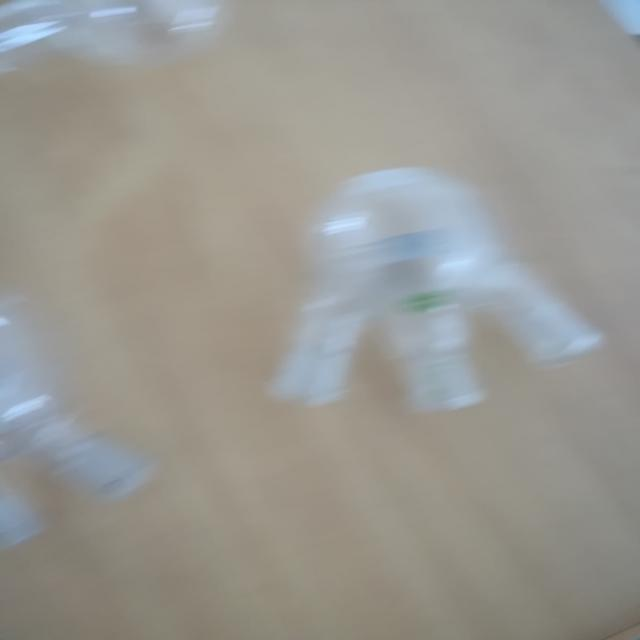Round_Bottom_Flask_Borosilicate_Glass_3_Neck: (239, 117, 638, 440)
